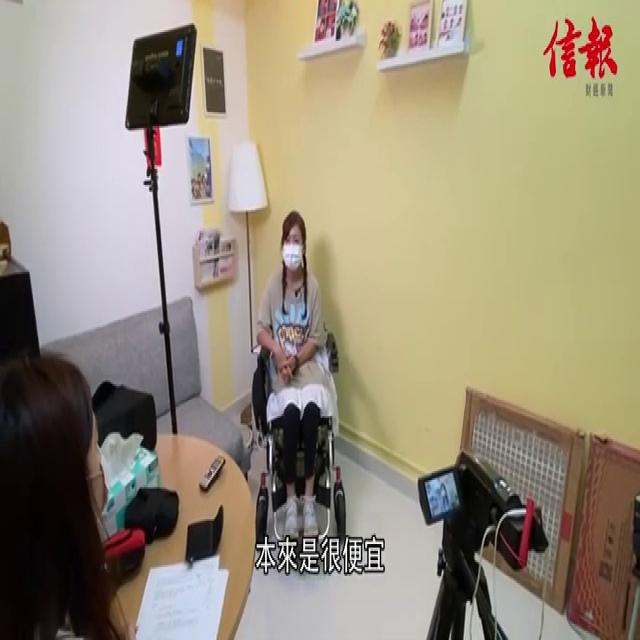wheelchairs: (246, 330, 355, 536)
